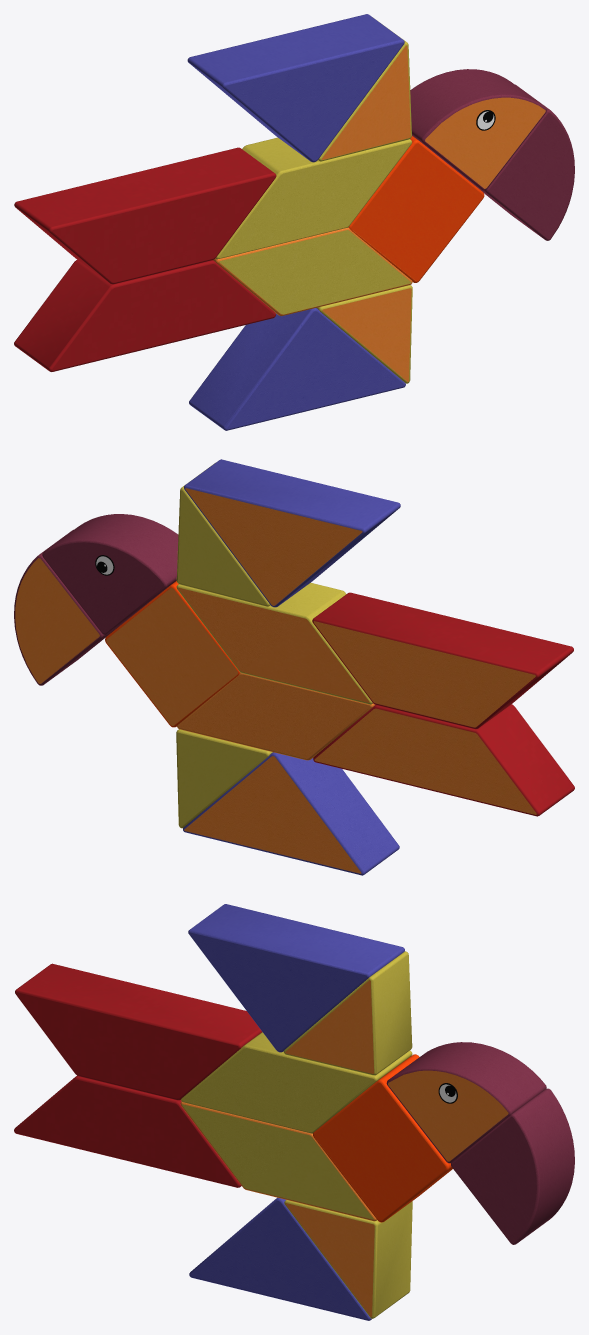
The model's file is unica_detal-matс4d-bird-opt.glb.
3 renders of one model, top to bottom at view 1: azimuth 30°, elevation 25°; view 2: azimuth 150°, elevation 25°; view 3: azimuth 330°, elevation 25°, orthographic.
Visible parts, largest first — view 1: trapecia.1, big-treug.1, 1/4round, romb.1, kub, small-treug, romb.2; view 2: trapecia.1, big-treug.1, 1/4round, romb.1, kub, small-treug, romb.2; view 3: trapecia.1, big-treug.1, 1/4round, small-treug, kub, romb.1, romb.2.
Boxes of the visible parts, left/top/right/bottom form: trapecia.1: left=14, top=147, right=276, bottom=371; big-treug.1: left=187, top=14, right=405, bottom=430; 1/4round: left=410, top=69, right=574, bottom=240; romb.1: left=215, top=137, right=411, bottom=259; kub: left=348, top=136, right=484, bottom=282; small-treug: left=316, top=20, right=412, bottom=383; romb.2: left=213, top=227, right=412, bottom=316; trapecia.1: left=312, top=592, right=574, bottom=816; big-treug.1: left=183, top=459, right=400, bottom=875; 1/4round: left=14, top=514, right=178, bottom=685; romb.1: left=176, top=582, right=372, bottom=704; kub: left=105, top=581, right=240, bottom=727; small-treug: left=176, top=463, right=272, bottom=828; romb.2: left=177, top=672, right=375, bottom=760; trapecia.1: left=14, top=963, right=261, bottom=1187; big-treug.1: left=188, top=904, right=404, bottom=1320; 1/4round: left=386, top=1042, right=574, bottom=1244; small-treug: left=284, top=951, right=412, bottom=1318; kub: left=313, top=1054, right=452, bottom=1222; romb.1: left=181, top=1032, right=412, bottom=1133; romb.2: left=180, top=1102, right=376, bottom=1221.
Size of the model in its own units: 128 by 80.66 by 15.81.
Materials: 9 (7 with a texture image).
